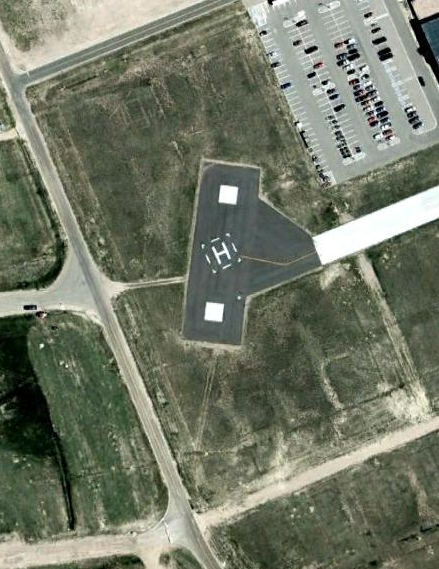heliport: (208, 241, 233, 265)
